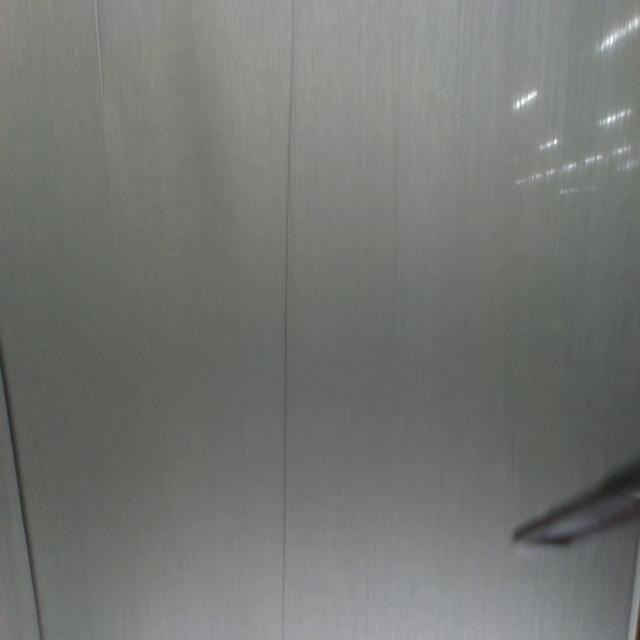crease: (0, 345, 45, 639), (278, 0, 296, 640), (92, 0, 107, 101)
